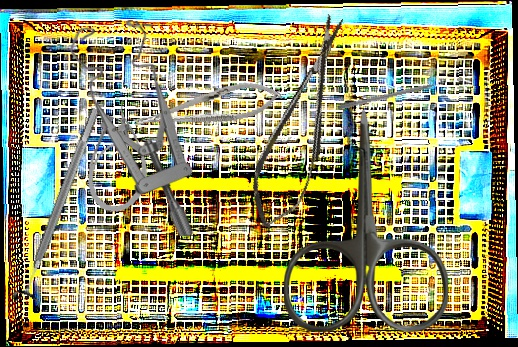Cannula: (81, 95, 161, 218)
Fixation Ring: (8, 103, 112, 310)
Iris Scissors: (284, 109, 448, 333)
Micro Scissor: (237, 9, 368, 236)
Needle Holder: (130, 75, 285, 140)
Pusher: (337, 79, 453, 111)
Speculum: (65, 19, 200, 237)
